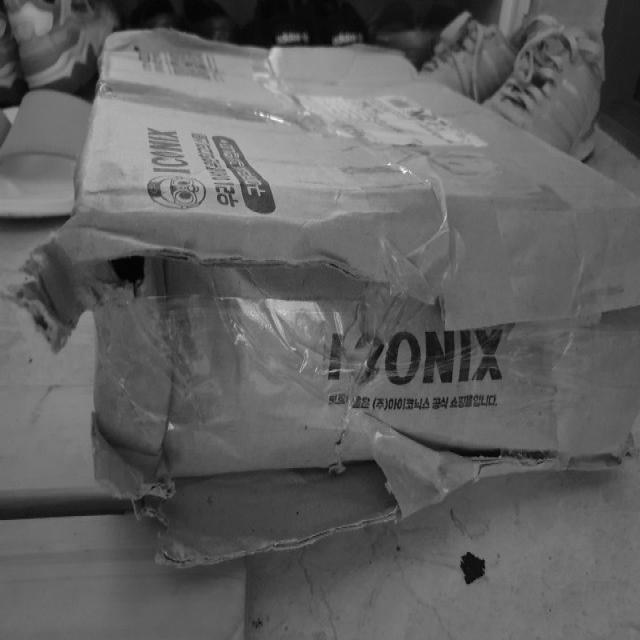hole: (92, 237, 194, 307)
